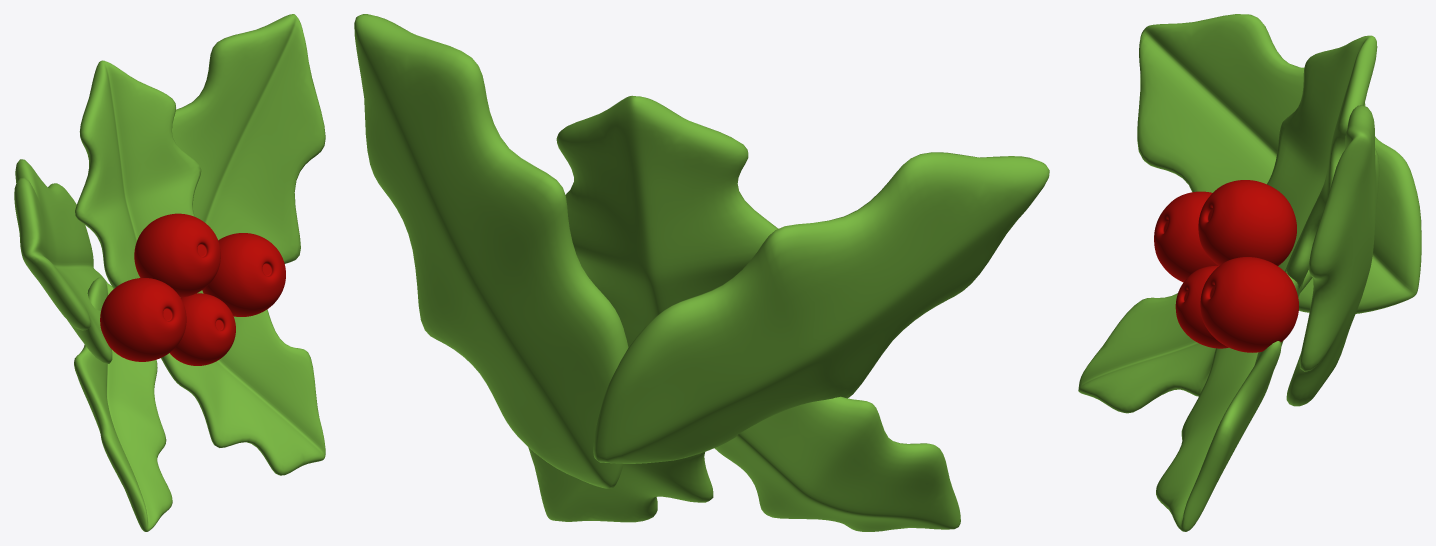
The model's file is Mistletoe.fbx.
3 renders of one model, left to right at view 1: azimuth 30°, elevation 25°; view 2: azimuth 150°, elevation 25°; view 3: azimuth 270°, elevation 25°, orthographic. The views are drawn at different scales.
Parts seen in each view (by area): view 1: Plane.001, Plane, Plane.003, Plane.004, Plane.002, Cylinder.060, Cylinder.059, Cylinder.061, Cylinder.062; view 2: Plane.002, Plane.001, Plane, Plane.004, Plane.003; view 3: Plane.002, Plane.001, Plane, Plane.003, Plane.004, Cylinder.061, Cylinder.059, Cylinder.060, Cylinder.062.
Boxes of the visible parts, x1,y1,x2,y2 form: Plane.001: [172, 14, 325, 263]; Plane: [75, 60, 201, 288]; Plane.003: [161, 290, 325, 475]; Plane.004: [74, 277, 172, 531]; Plane.002: [14, 159, 112, 363]; Cylinder.060: [100, 278, 186, 361]; Cylinder.059: [134, 213, 220, 297]; Cylinder.061: [202, 233, 285, 316]; Cylinder.062: [170, 293, 235, 365]; Plane.002: [593, 152, 1049, 463]; Plane.001: [354, 14, 628, 488]; Plane: [556, 95, 778, 347]; Plane.004: [714, 396, 960, 531]; Plane.003: [528, 447, 713, 522]; Plane.002: [1137, 14, 1421, 313]; Plane.001: [1286, 105, 1379, 406]; Plane: [1267, 35, 1377, 288]; Plane.003: [1156, 268, 1303, 531]; Plane.004: [1078, 270, 1312, 413]; Cylinder.061: [1200, 257, 1298, 352]; Cylinder.059: [1198, 180, 1296, 265]; Cylinder.060: [1154, 191, 1218, 282]; Cylinder.062: [1175, 265, 1228, 348].
Size of the model in its own units: 276 by 267 by 195.
